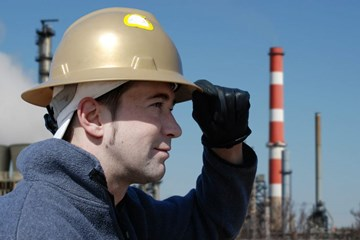epi: (1, 6, 257, 240)
